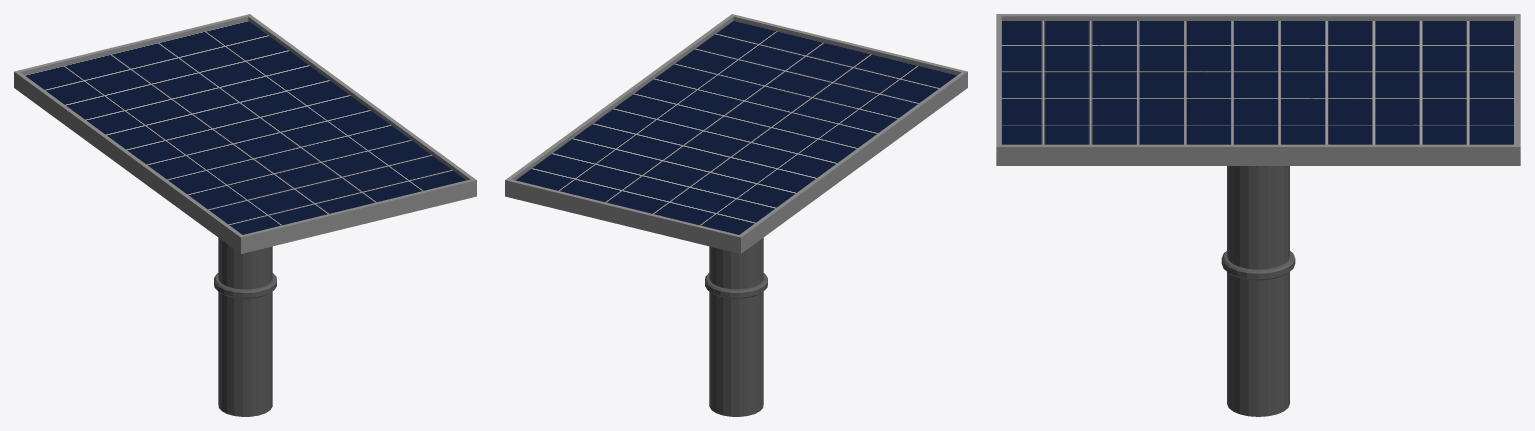
The model's file is solar_panel-8003953f.glb.
3 views of the same model, side by side, from view 1: azimuth 30°, elevation 25°; view 2: azimuth 150°, elevation 25°; view 3: azimuth 270°, elevation 25° (orthographic). The views are drawn at different scales.
Parts seen in each view (by area): view 1: panel, stand; view 2: panel, stand; view 3: panel, stand.
Boxes of the visible parts, x1,y1,x2,y2 form: panel: [14, 14, 476, 253]; stand: [214, 238, 276, 416]; panel: [505, 14, 967, 253]; stand: [705, 238, 767, 416]; panel: [996, 14, 1520, 165]; stand: [1221, 166, 1295, 416].
Bounding box in the file's own units: 3 × 3.4 × 5.
2 materials, 2 textured.
